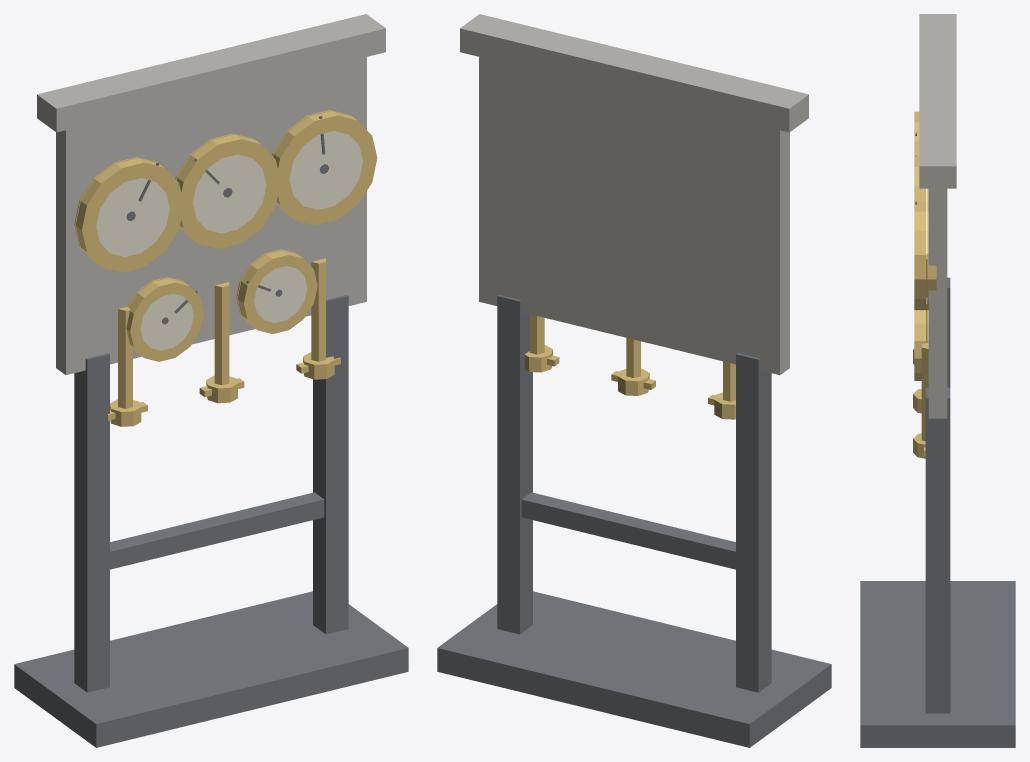
Rendered from steampunk-airship-dock-and-workshop-gauge-board-8012d60b__36071.glb.
The picture shows the model from 3 angles, left to right: view 1: azimuth 30°, elevation 25°; view 2: azimuth 150°, elevation 25°; view 3: azimuth 270°, elevation 25°; orthographic projection. The views are drawn at different scales.
Parts seen in each view (by area): view 1: gauge-board; view 2: gauge-board; view 3: gauge-board.
Part boxes in pixels (x1,y1,x2,y2): gauge-board: (14, 14, 408, 747); gauge-board: (437, 14, 831, 747); gauge-board: (860, 14, 1015, 747).
Size of the model in its own units: 1.16 by 2.08 by 0.5.
